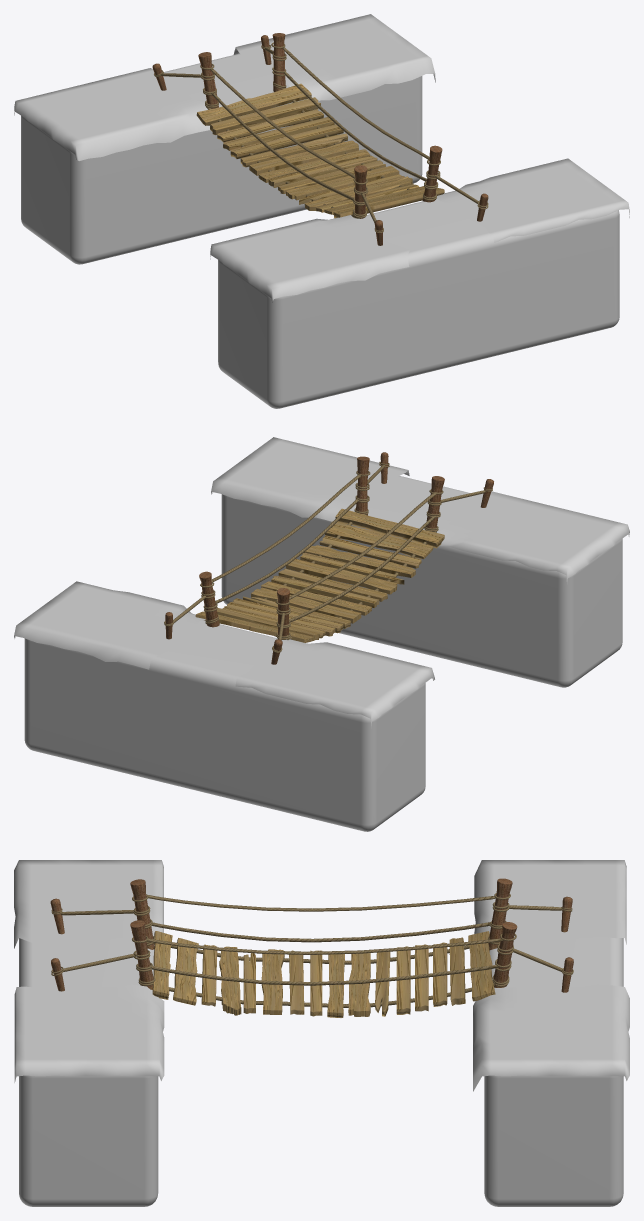
The picture shows the model from 3 angles, top to bottom: view 1: azimuth 30°, elevation 25°; view 2: azimuth 150°, elevation 25°; view 3: azimuth 270°, elevation 25°; orthographic projection. The views are drawn at different scales.
Parts seen in each view (by area): view 1: pCube23, pCube22, pPlane6, pPlane7, pPlane8, pPlane9, woodenplank8, pCube9, pPlane5, pCube5, pCube7, pPlane4 (+15 smaller); view 2: pCube22, pCube23, pPlane7, pPlane8, pPlane6, pPlane9, woodenplank5, woodenplank4, pPlane4, woodenplank6, pPlane5, pCube3 (+15 smaller); view 3: pCube23, pCube22, pPlane8, pPlane9, pPlane7, pPlane6, pCube16, pCube20, pCube18, pCube19, woodenplank8, pPlane5 (+18 smaller).
Part boxes in pixels (x1=…): pCube23: x1=218, y1=198, x2=619, y2=408; pCube22: x1=21, y1=53, x2=422, y2=264; pPlane6: x1=14, y1=68, x2=209, y2=160; pPlane7: x1=210, y1=215, x2=409, y2=302; pPlane8: x1=233, y1=14, x2=435, y2=101; pPlane9: x1=437, y1=158, x2=629, y2=242; woodenplank8: x1=196, y1=83, x2=311, y2=125; pCube9: x1=210, y1=97, x2=320, y2=135; pPlane5: x1=249, y1=140, x2=358, y2=175; pCube5: x1=230, y1=124, x2=343, y2=158; pCube7: x1=217, y1=109, x2=323, y2=142; pPlane4: x1=286, y1=166, x2=399, y2=200; pCube22: x1=24, y1=620, x2=425, y2=831; pCube23: x1=221, y1=476, x2=622, y2=687; pPlane7: x1=437, y1=491, x2=629, y2=584; pPlane8: x1=14, y1=581, x2=205, y2=669; pPlane6: x1=235, y1=639, x2=434, y2=728; pPlane9: x1=211, y1=437, x2=409, y2=521; woodenplank5: x1=325, y1=521, x2=433, y2=559; woodenplank4: x1=335, y1=508, x2=444, y2=548; pPlane4: x1=286, y1=559, x2=397, y2=594; woodenplank6: x1=303, y1=545, x2=415, y2=577; pPlane5: x1=251, y1=587, x2=361, y2=623; pCube3: x1=319, y1=535, x2=421, y2=568; pCube23: x1=19, y1=937, x2=158, y2=1206; pCube22: x1=484, y1=937, x2=623, y2=1206; pPlane8: x1=473, y1=984, x2=629, y2=1091; pPlane9: x1=14, y1=984, x2=164, y2=1082; pPlane7: x1=14, y1=860, x2=163, y2=948; pPlane6: x1=474, y1=860, x2=626, y2=944; pCube16: x1=151, y1=964, x2=509, y2=985; pCube20: x1=152, y1=922, x2=490, y2=942; pCube18: x1=146, y1=938, x2=503, y2=954; pCube19: x1=146, y1=895, x2=496, y2=911; woodenplank8: x1=468, y1=931, x2=495, y2=1001; pPlane5: x1=348, y1=953, x2=370, y2=1016.
Size of the model in its own units: 36.21 by 16.89 by 44.96.
